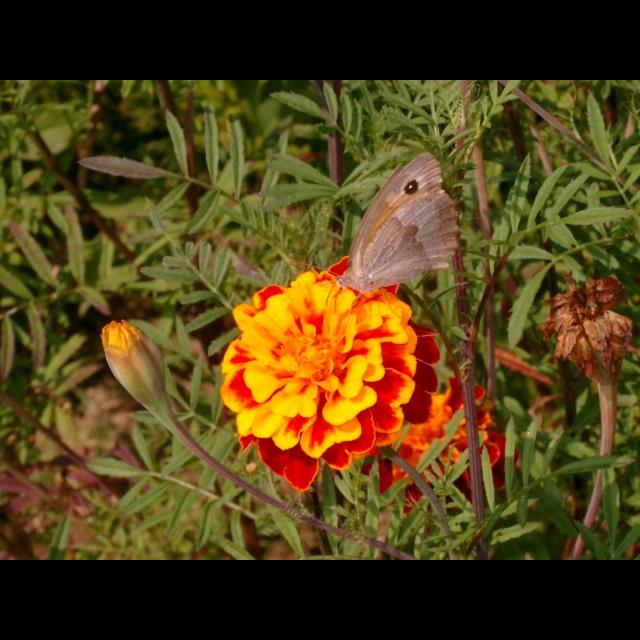Flower: (216, 256, 444, 492), (360, 380, 524, 518), (100, 318, 168, 417)
